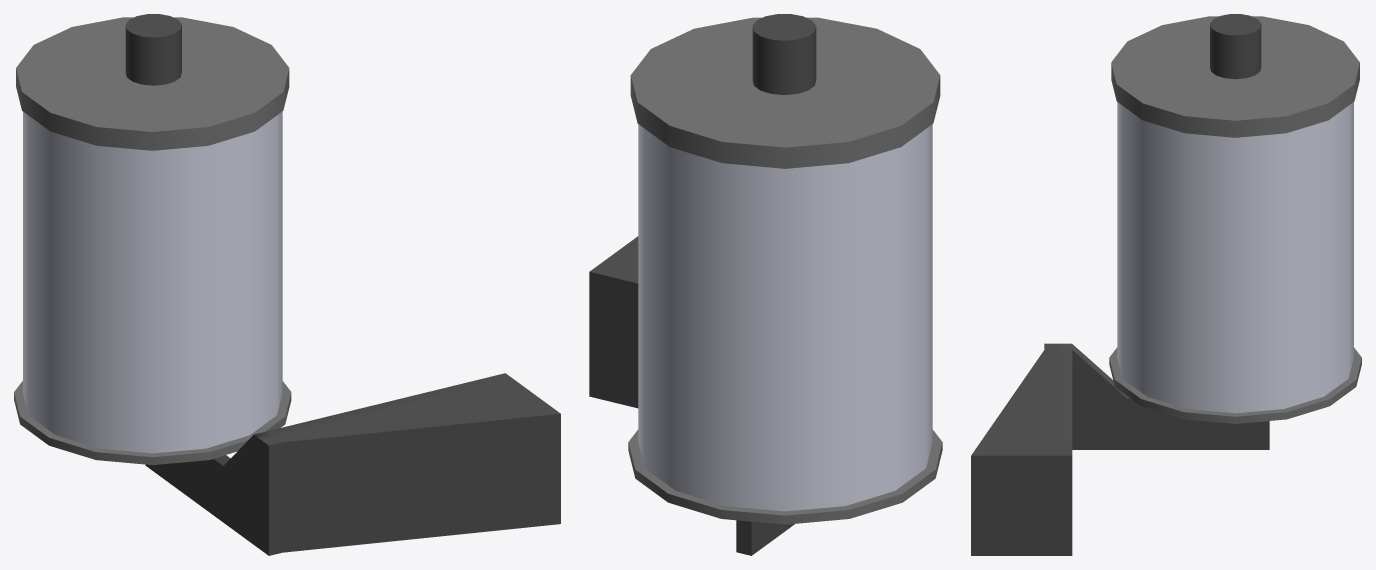
Rendered from Coxa.obj.
The picture shows the model from 3 angles, left to right: view 1: azimuth 30°, elevation 25°; view 2: azimuth 150°, elevation 25°; view 3: azimuth 270°, elevation 25°; orthographic projection. The views are drawn at different scales.
Visible parts, largest first — view 1: Coxa SILVER2, Coxa SILVER2 CoxaSupport; view 2: Coxa SILVER2, Coxa SILVER2 CoxaSupport; view 3: Coxa SILVER2, Coxa SILVER2 CoxaSupport.
Boxes of the visible parts, bbox=[...] form: Coxa SILVER2: bbox=[14, 14, 291, 465]; Coxa SILVER2 CoxaSupport: bbox=[145, 373, 560, 555]; Coxa SILVER2: bbox=[628, 14, 942, 524]; Coxa SILVER2 CoxaSupport: bbox=[589, 236, 794, 555]; Coxa SILVER2: bbox=[1109, 14, 1361, 423]; Coxa SILVER2 CoxaSupport: bbox=[971, 343, 1269, 555].
Size of the model in its own units: 0.7822 by 0.8942 by 0.7631.
Materials: 1 (1 with a texture image).
